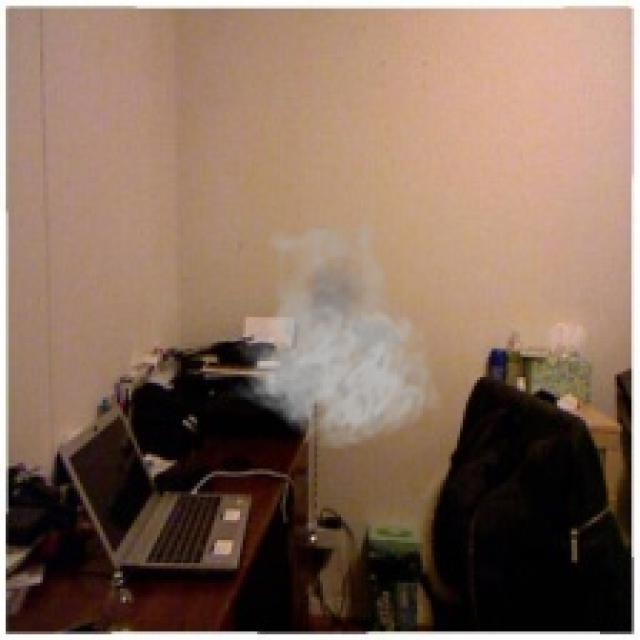Smoke: (228, 206, 443, 451)
